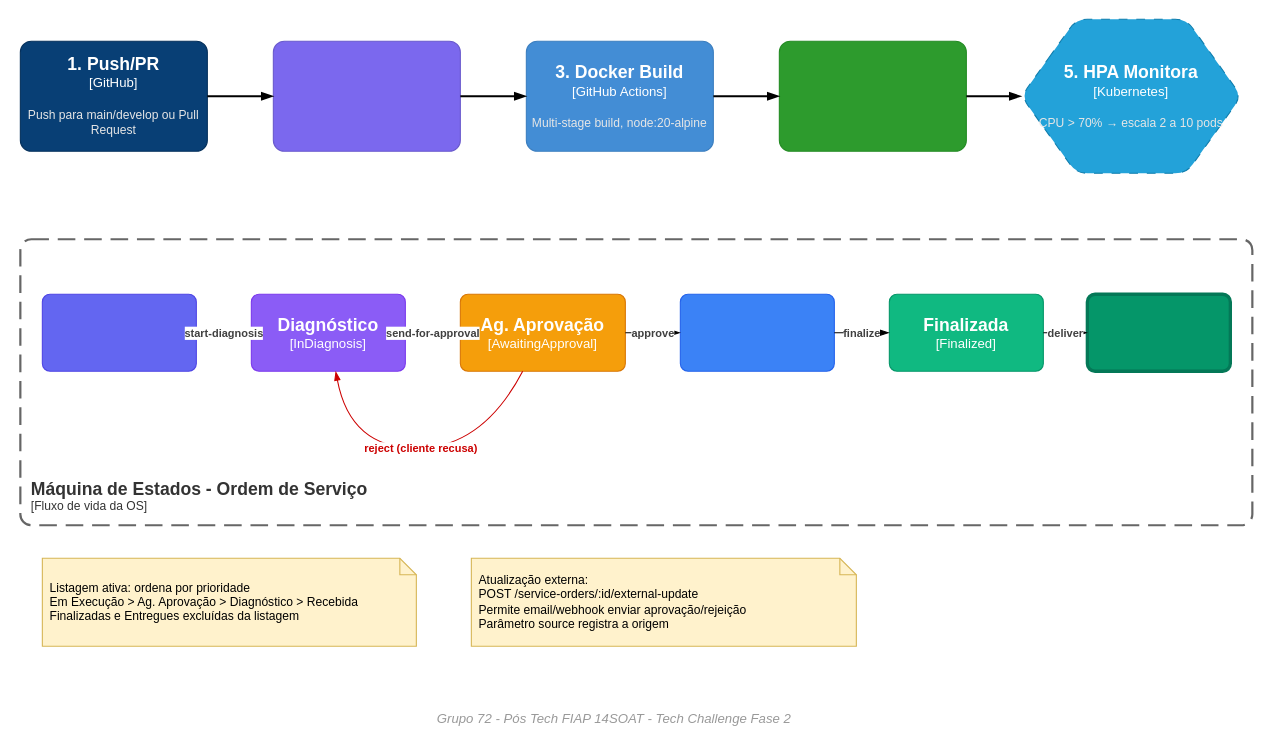
Image size: 1272x754. Some labels were removed from this diagram. The box of each missing label's shape, as (x1, y1, x2, y2) in pixels:
2. Build & Test [GitHub Actions] npm ci, npm test, npm run build: (272, 40, 460, 151)
4. Deploy K8s [GitHub Actions] kubectl apply -f k8s/, rolling update: (778, 40, 966, 151)
Em Execução [InExecution]: (679, 293, 834, 371)
Entregue [Delivered]: (1085, 292, 1231, 372)
Recebida [Received]: (41, 293, 196, 371)
